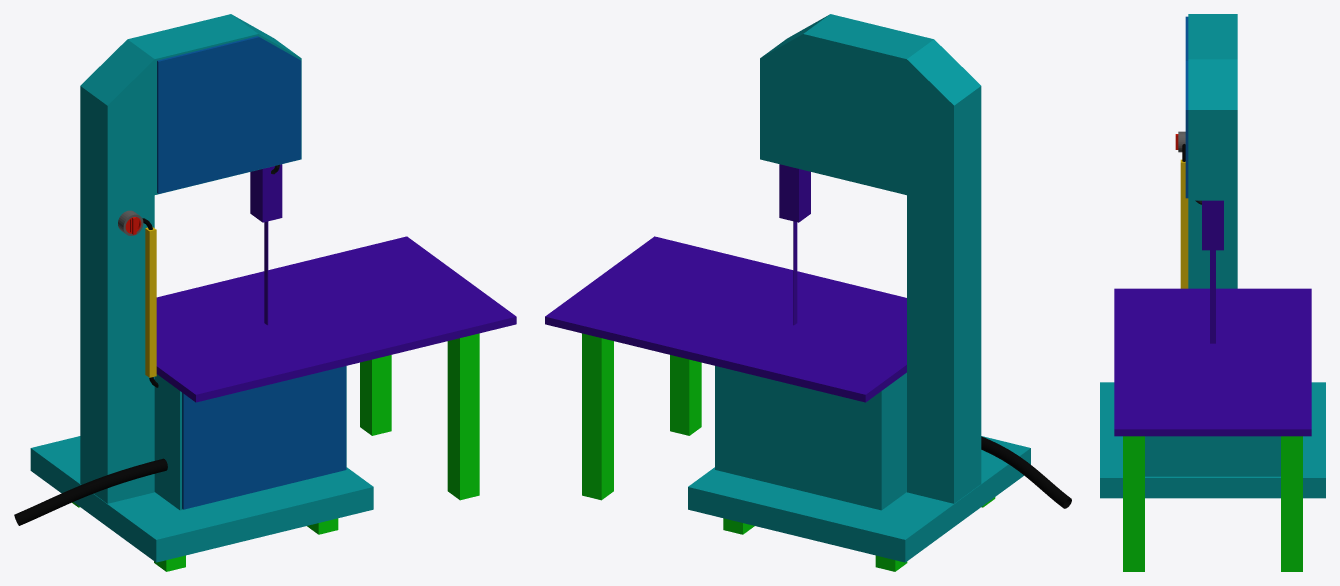
The model's file is Bandsaege.fbx.
3 renders of one model, left to right at view 1: azimuth 30°, elevation 25°; view 2: azimuth 150°, elevation 25°; view 3: azimuth 270°, elevation 25°, orthographic. The views are drawn at different scales.
Parts seen in each view (by area): view 1: Bandsaege; view 2: Bandsaege; view 3: Bandsaege.
Boxes of the visible parts, x1,y1,x2,y2 form: Bandsaege: (14,14,516,571); Bandsaege: (545,14,1071,571); Bandsaege: (1100,14,1325,571).
Bounding box in the file's own units: 200 × 200 × 94.69.
